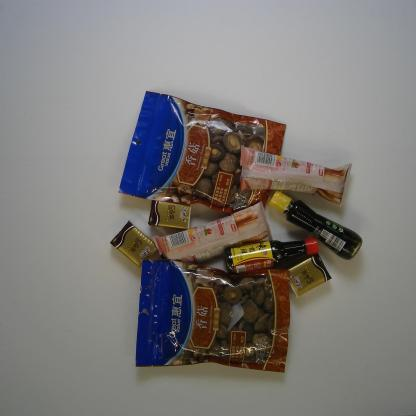Dessert: (153, 200, 274, 265), (237, 143, 354, 206)
Dried Food: (116, 90, 288, 214), (134, 256, 292, 374)
Seasoner: (266, 188, 363, 261), (223, 236, 320, 276)
Tissue: (109, 220, 158, 268), (285, 254, 333, 298), (147, 199, 193, 230)
